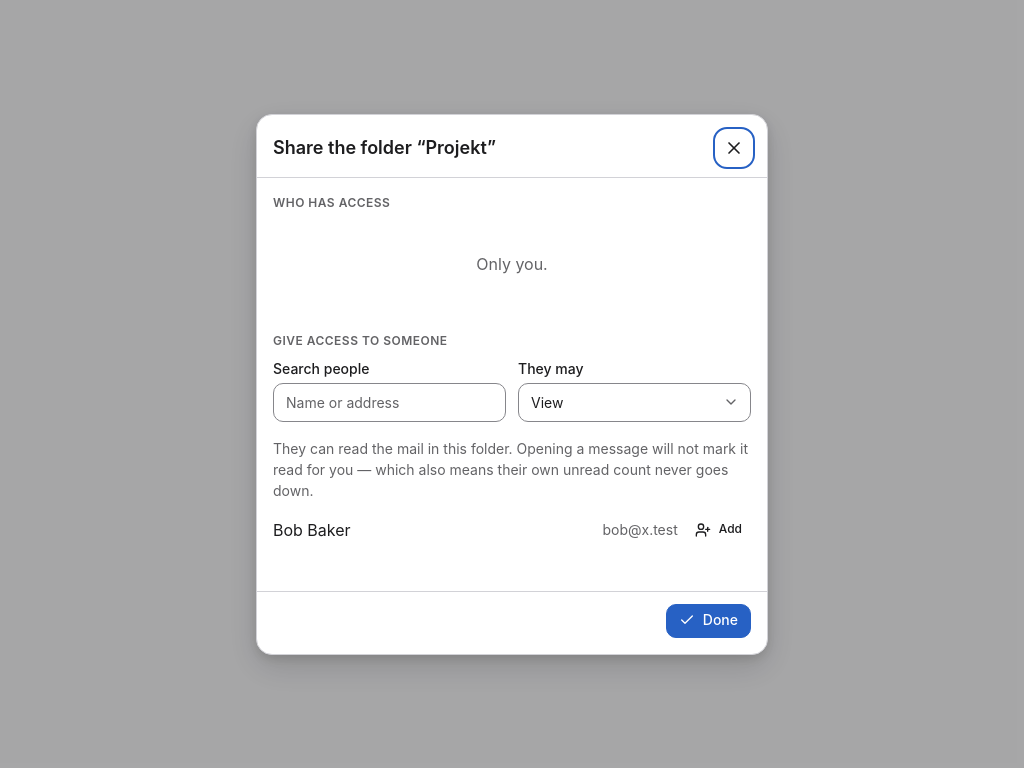
it: what the roles say, in words › says Manage can re-share without telling you
Expected: the text "Bob Baker" is shown, x1=273 y1=520 x2=351 y2=540
Select "Manage" in the dropdown labelled "They may": (634, 402) x1=518 y1=382 x2=751 y2=422
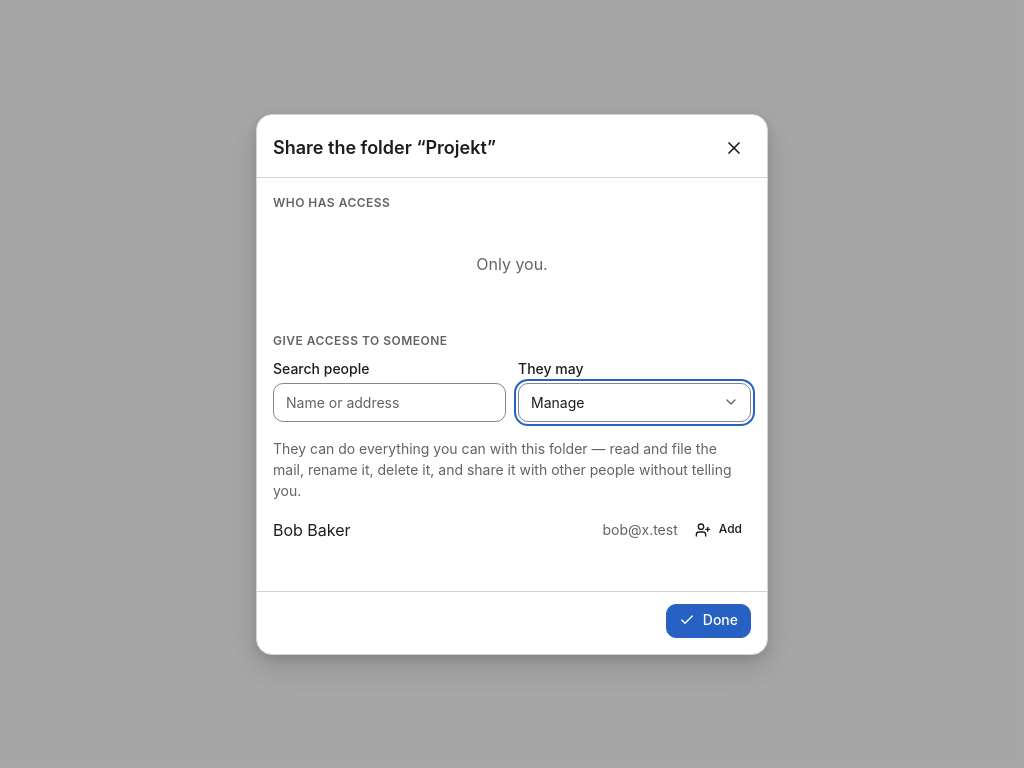
Expected: the text "without telling you" is shown, x1=273 y1=440 x2=732 y2=498
